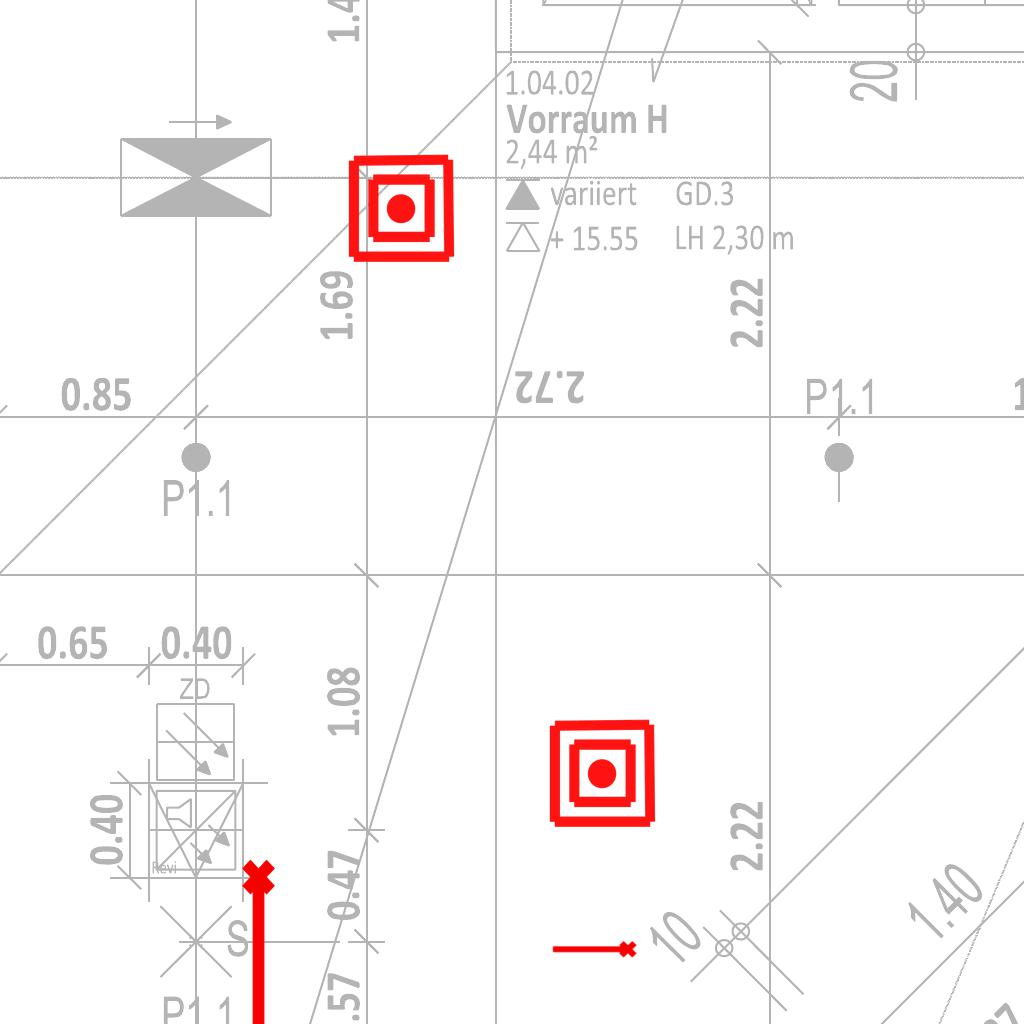ASR_Ansaugoeffnung: (238, 857, 284, 1024), (550, 939, 638, 962)
NAM-Nichtautomatischer_Melder: (345, 152, 458, 265), (546, 717, 659, 830)
